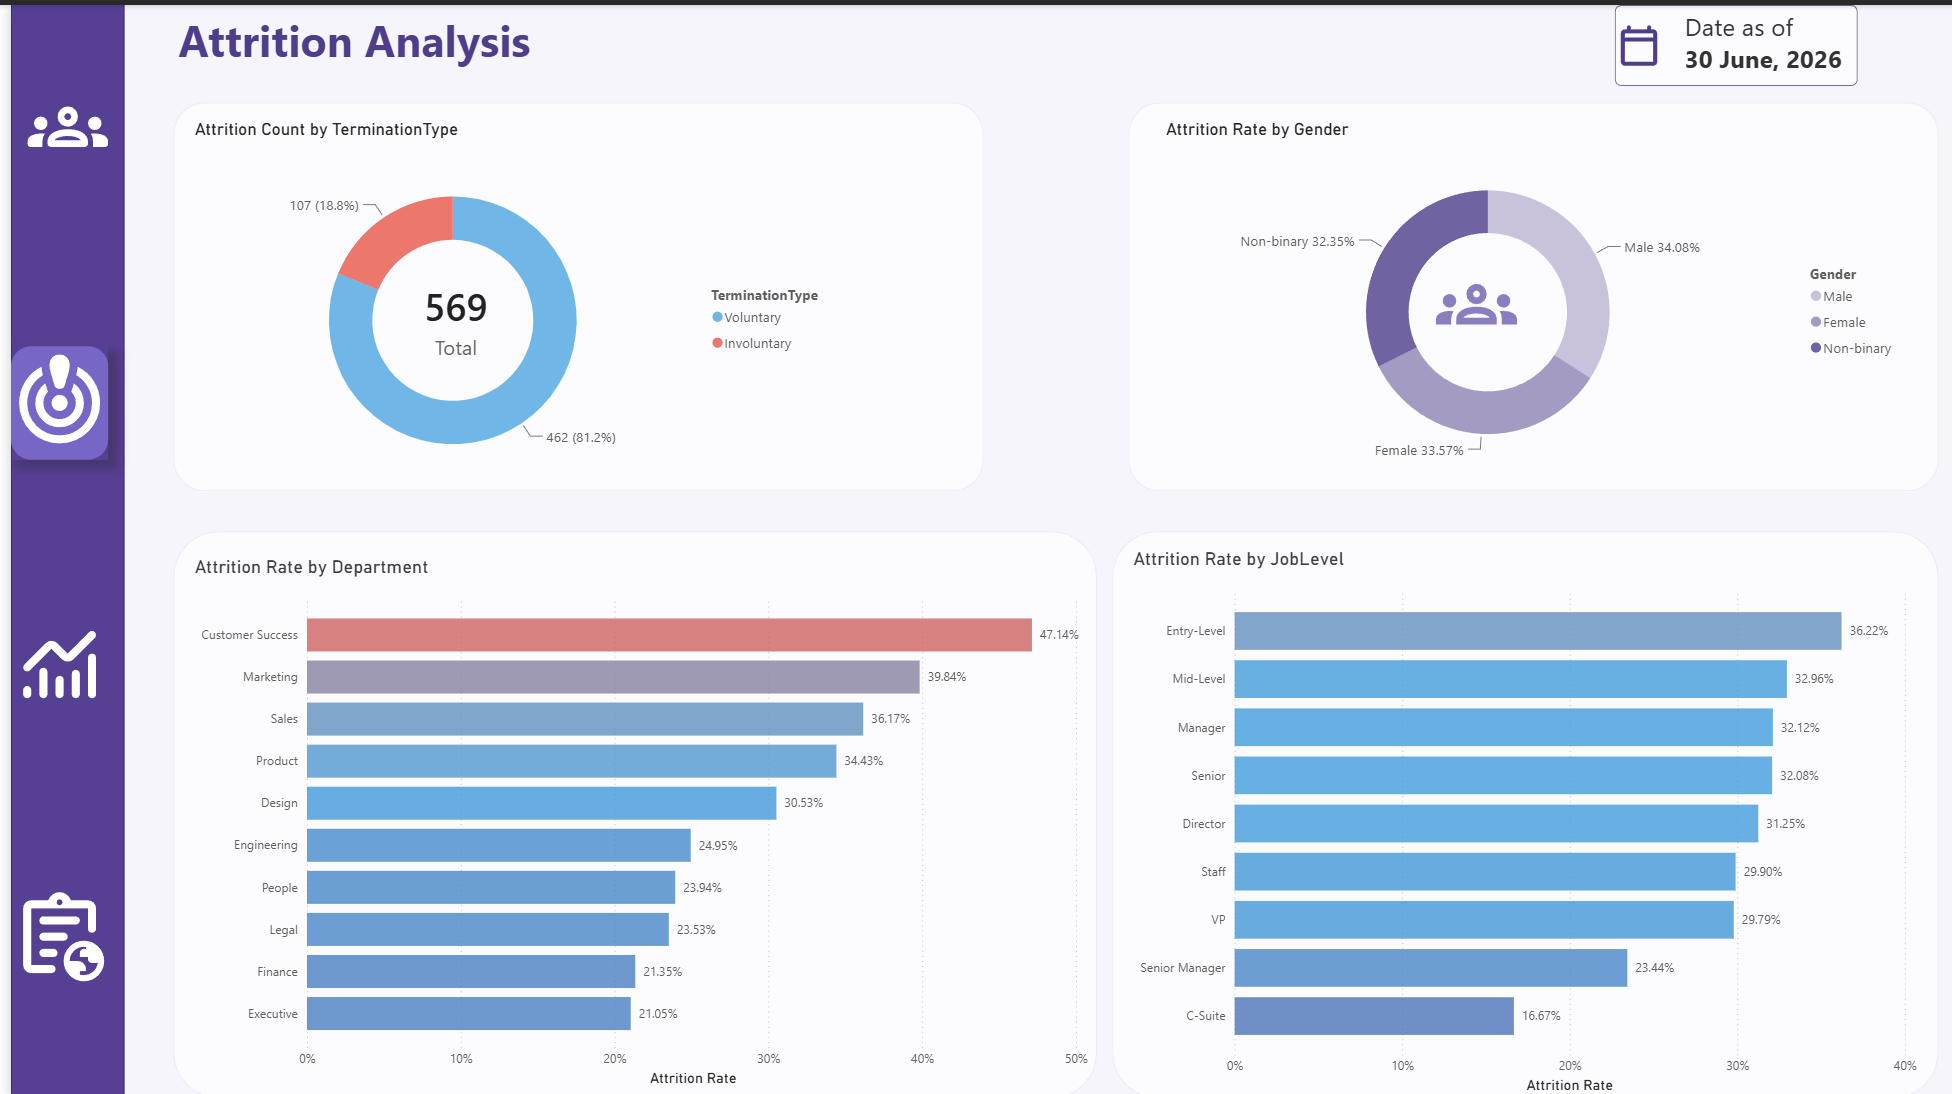

What the dashboard file says about the page in this screenshot:
{"tool":"powerbi","page":{"name":"Attrition Analysis","canvas":[1920,1080],"ordinal":1},"visuals":[{"type":"shape","box":[1584,0,240,80],"z":0,"group":"g2"},{"type":"shape","box":[1088,520,816,560],"z":0},{"type":"image","box":[1568,16,80,48],"z":1000,"group":"g2"},{"type":"shape","box":[1104,96,800,384],"z":1000,"group":"g3"},{"type":"shape","box":[160,520,912,560],"z":1000},{"type":"textbox","box":[1648,0,176,80],"z":2000,"group":"g2"},{"type":"clusteredBarChart","fields":{"Category":["Employees.Department"],"Y":["DAX.Attrition Rate"]},"box":[176,544,896,528],"z":2000},{"type":"shape","box":[160,96,800,384],"z":3000,"group":"g4"},{"type":"clusteredBarChart","fields":{"Category":["Employees.JobLevel"],"Y":["DAX.Attrition Rate"]},"box":[1104,536,784,544],"z":3000},{"type":"textbox","box":[160,0,544,96],"z":4000},{"type":"group","id":"g1","title":"Group 2","box":[0,-8,112,1088],"z":6000},{"type":"donutChart","fields":{"Category":["Employees.Gender"],"Y":["DAX.Attrition Rate"]},"box":[1136,112,736,352],"z":6000,"group":"g3"},{"type":"group","id":"g2","title":"Group 1","box":[1568,0,256,80],"z":7000},{"type":"donutChart","fields":{"Category":["Employees.TerminationType"],"Y":["Dax_Measure.Attrition Count"]},"box":[176,112,640,368],"z":7000,"group":"g4"},{"type":"group","id":"g3","title":"Group 3","box":[1104,96,800,384],"z":8000},{"type":"shape","box":[0,-8,112,1088],"z":9000,"group":"g1"},{"type":"group","id":"g4","title":"Group 4","box":[160,96,800,384],"z":9000},{"type":"cardVisual","fields":{"Data":["DAX.Attrition Count"]},"box":[224,208,432,208],"z":10000},{"type":"image","box":[0,336,96,112],"z":10000,"group":"g1"},{"type":"image","box":[1408,240,80,112],"z":10500},{"type":"image","box":[0,592,96,112],"z":11000,"group":"g1"},{"type":"image","box":[16,64,80,112],"z":12000,"group":"g1"},{"type":"image","box":[0,864,96,112],"z":13000,"group":"g1"}]}

Visuals, with their boxes on the page's 1920x1080 design canvas (x1, y1, x2, y2). These are canvas units, not pixel positions in the 1952x1094 screenshot, which may show the page scaled, cropped or inside an application window:
shape: (x1=1584, y1=0, x2=1824, y2=80)
shape: (x1=1088, y1=520, x2=1904, y2=1080)
image: (x1=1568, y1=16, x2=1648, y2=64)
shape: (x1=1104, y1=96, x2=1904, y2=480)
shape: (x1=160, y1=520, x2=1072, y2=1080)
textbox: (x1=1648, y1=0, x2=1824, y2=80)
clusteredBarChart - Employees.Department x DAX.Attrition Rate: (x1=176, y1=544, x2=1072, y2=1072)
shape: (x1=160, y1=96, x2=960, y2=480)
clusteredBarChart - Employees.JobLevel x DAX.Attrition Rate: (x1=1104, y1=536, x2=1888, y2=1080)
textbox: (x1=160, y1=0, x2=704, y2=96)
"Group 2" group: (x1=0, y1=-8, x2=112, y2=1080)
donutChart - Employees.Gender x DAX.Attrition Rate: (x1=1136, y1=112, x2=1872, y2=464)
"Group 1" group: (x1=1568, y1=0, x2=1824, y2=80)
donutChart - Employees.TerminationType x Dax_Measure.Attrition Count: (x1=176, y1=112, x2=816, y2=480)
"Group 3" group: (x1=1104, y1=96, x2=1904, y2=480)
shape: (x1=0, y1=-8, x2=112, y2=1080)
"Group 4" group: (x1=160, y1=96, x2=960, y2=480)
cardVisual - DAX.Attrition Count: (x1=224, y1=208, x2=656, y2=416)
image: (x1=0, y1=336, x2=96, y2=448)
image: (x1=1408, y1=240, x2=1488, y2=352)
image: (x1=0, y1=592, x2=96, y2=704)
image: (x1=16, y1=64, x2=96, y2=176)
image: (x1=0, y1=864, x2=96, y2=976)
